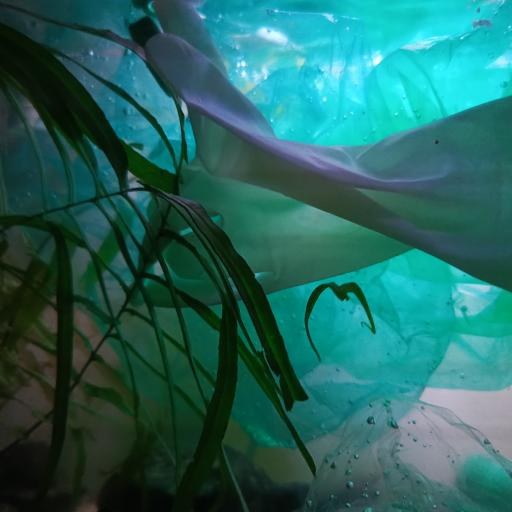glove: (130, 0, 512, 310)
plastic_bag: (93, 0, 512, 449), (0, 0, 367, 295), (296, 393, 512, 512)
